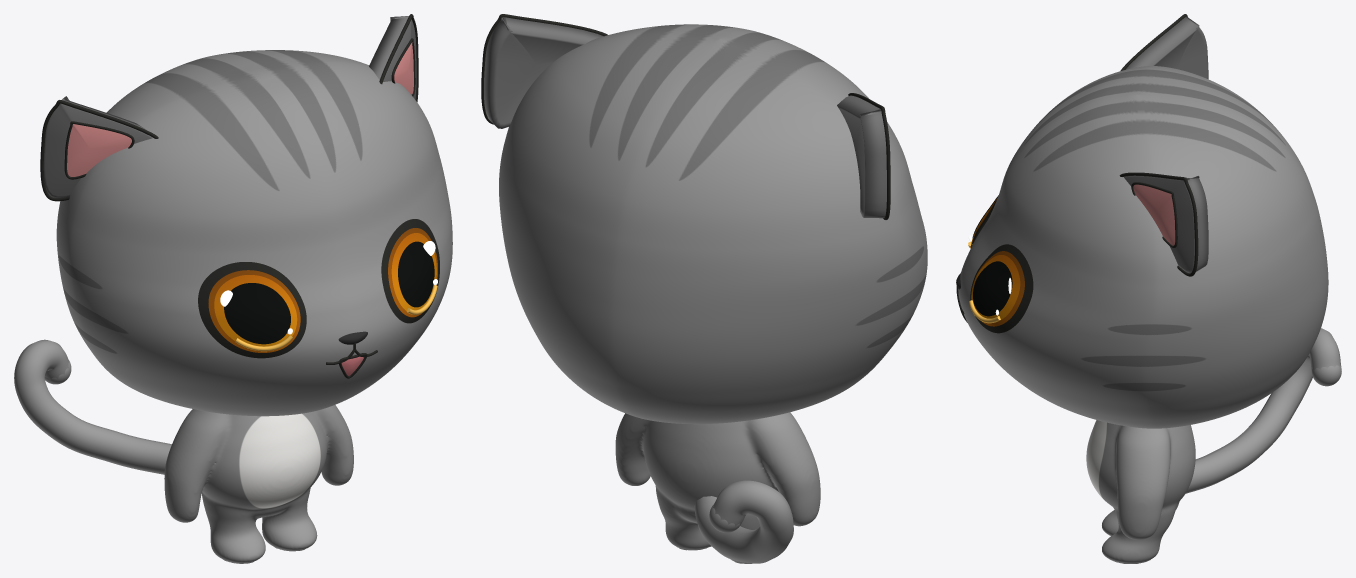
The model's file is CatGray_IP.glb.
3 views of the same model, side by side, from view 1: azimuth 30°, elevation 25°; view 2: azimuth 150°, elevation 25°; view 3: azimuth 270°, elevation 25° (orthographic). The views are drawn at different scales.
Visible parts, largest first — view 1: Head • continuous shaped surface.001, Body • continuous bare skin and painted oval belly.001, Tail • continuous upright curl.001, Ear L • rounded outer shell.001, Eye L • pupil.001, Eye L • charcoal socket.001, Ear L • inset pink.001, Eye R • pupil.001, Ear R • rounded outer shell.001, Eye L • orange iris.001, Eye R • charcoal socket.001, Eye L • amber outer edge.001 (+5 smaller); view 2: Head • continuous shaped surface.001, Body • continuous bare skin and painted oval belly.001, Ear R • rounded outer shell.001, Tail • continuous upright curl.001, Ear L • rounded outer shell.001, Ear R • rounded outer shell • perimeter.001, Ear L • rounded outer shell • perimeter.001; view 3: Head • continuous shaped surface.001, Body • continuous bare skin and painted oval belly.001, Tail • continuous upright curl.001, Ear R • rounded outer shell.001, Ear L • rounded outer shell.001, Eye R • pupil.001, Ear R • inset pink.001, Eye R • charcoal socket.001, Eye R • orange iris.001, Ear R • rounded outer shell • perimeter.001, Eye R • amber outer edge.001, Tail • rounded tip.001.
Part boxes in pixels (x1,y1,x2,y2): Head • continuous shaped surface.001: [56, 50, 452, 416]; Body • continuous bare skin and painted oval belly.001: [164, 405, 353, 563]; Tail • continuous upright curl.001: [14, 339, 171, 474]; Ear L • rounded outer shell.001: [43, 96, 152, 197]; Eye L • pupil.001: [224, 283, 290, 344]; Eye L • charcoal socket.001: [198, 262, 306, 358]; Ear L • inset pink.001: [67, 124, 131, 176]; Eye R • pupil.001: [398, 241, 434, 307]; Ear R • rounded outer shell.001: [369, 16, 416, 99]; Eye L • orange iris.001: [214, 275, 297, 346]; Eye R • charcoal socket.001: [381, 219, 439, 323]; Eye L • amber outer edge.001: [208, 270, 300, 352]; Head • continuous shaped surface.001: [499, 24, 927, 424]; Body • continuous bare skin and painted oval belly.001: [615, 412, 820, 563]; Ear R • rounded outer shell.001: [484, 17, 603, 128]; Tail • continuous upright curl.001: [694, 480, 793, 563]; Ear L • rounded outer shell.001: [837, 95, 886, 218]; Ear R • rounded outer shell • perimeter.001: [481, 14, 607, 124]; Ear L • rounded outer shell • perimeter.001: [848, 93, 890, 219]; Head • continuous shaped surface.001: [958, 66, 1328, 428]; Body • continuous bare skin and painted oval belly.001: [1086, 420, 1195, 563]; Tail • continuous upright curl.001: [1185, 328, 1341, 493]; Ear R • rounded outer shell.001: [1124, 175, 1208, 273]; Ear L • rounded outer shell.001: [1125, 16, 1208, 79]; Eye R • pupil.001: [973, 261, 1012, 316]; Ear R • inset pink.001: [1133, 184, 1175, 245]; Eye R • charcoal socket.001: [970, 244, 1033, 333]; Eye R • orange iris.001: [971, 255, 1020, 320]; Ear R • rounded outer shell • perimeter.001: [1119, 172, 1198, 276]; Eye R • amber outer edge.001: [971, 251, 1024, 326]; Tail • rounded tip.001: [1312, 365, 1341, 386].
Size of the model in its own units: 3.65 by 4.36 by 3.38.
13 materials, 2 textured.
